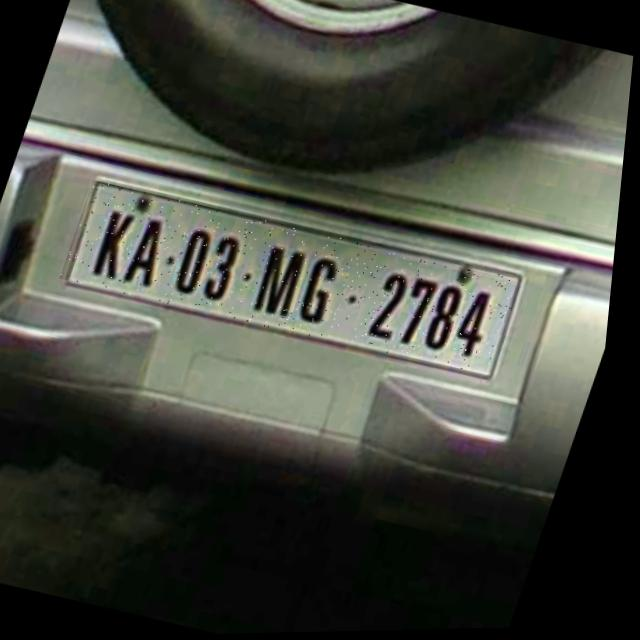license_plate: (56, 173, 535, 388)
